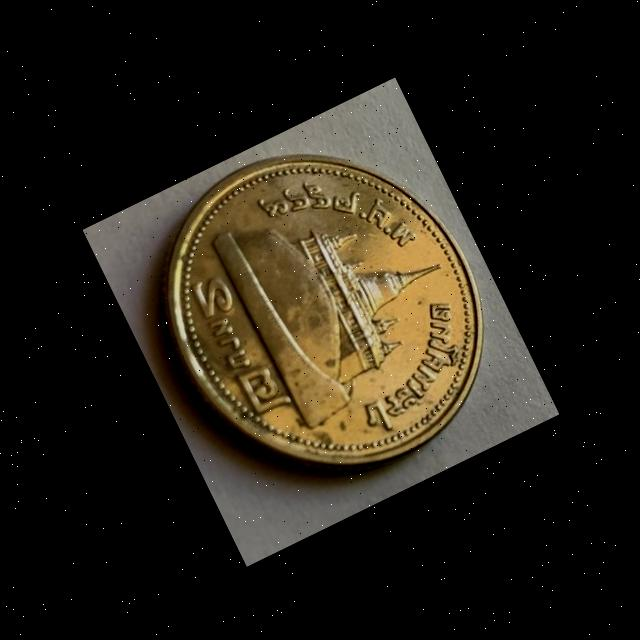2-baht: (96, 75, 558, 558)
